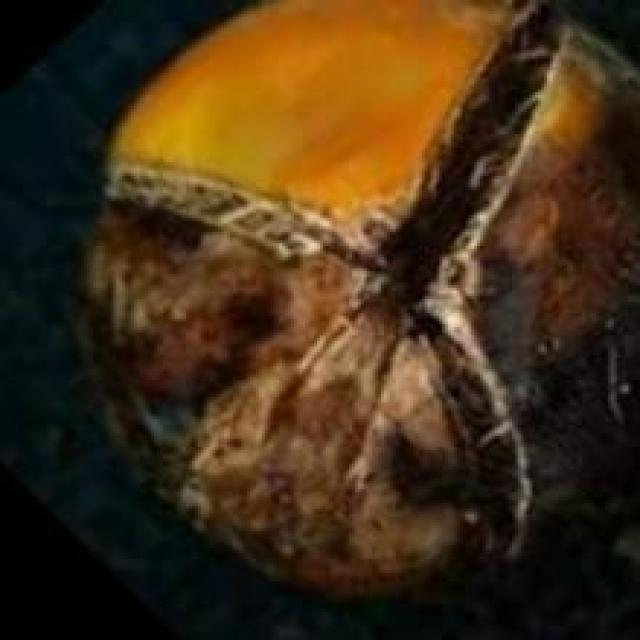damaged: (74, 0, 637, 589)
